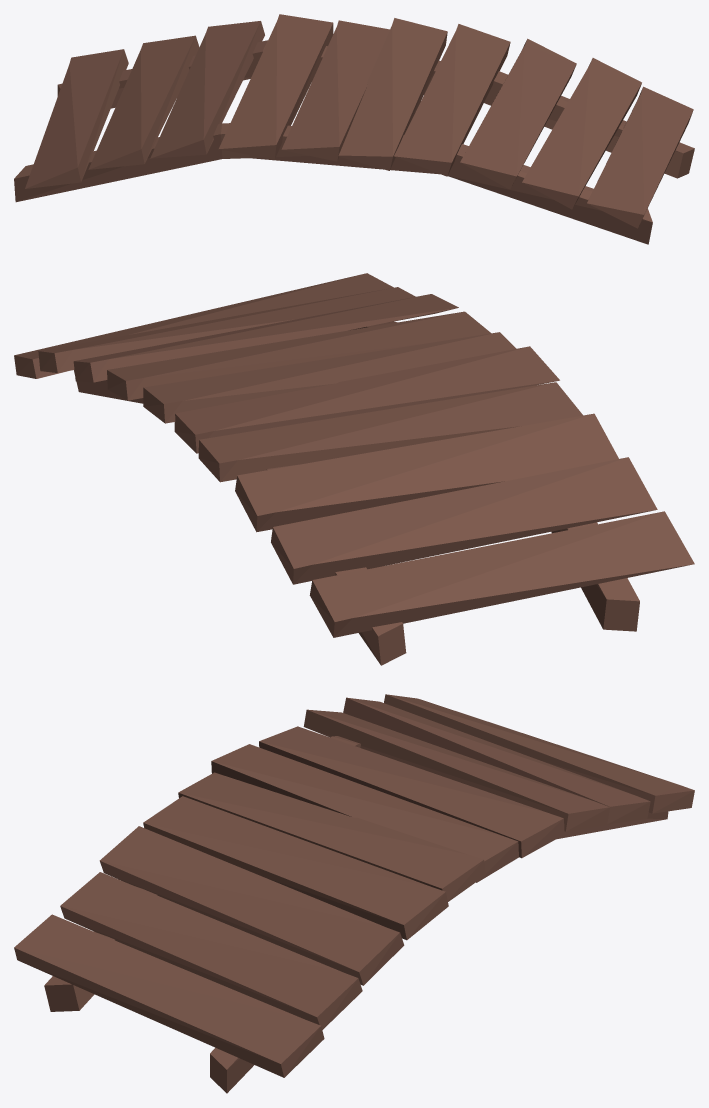
3 views of the same model, one above another, from view 1: azimuth 30°, elevation 25°; view 2: azimuth 150°, elevation 25°; view 3: azimuth 270°, elevation 25° (orthographic). The views are drawn at different scales.
Visible parts, largest first — view 1: group_284166726; view 2: group_284166726; view 3: group_284166726.
Part boxes in pixels (x1=…): group_284166726: x1=14, y1=14, x2=694, y2=244; group_284166726: x1=14, y1=273, x2=694, y2=665; group_284166726: x1=14, y1=694, x2=694, y2=1093.
Size of the model in its own units: 207 by 38.61 by 177.
